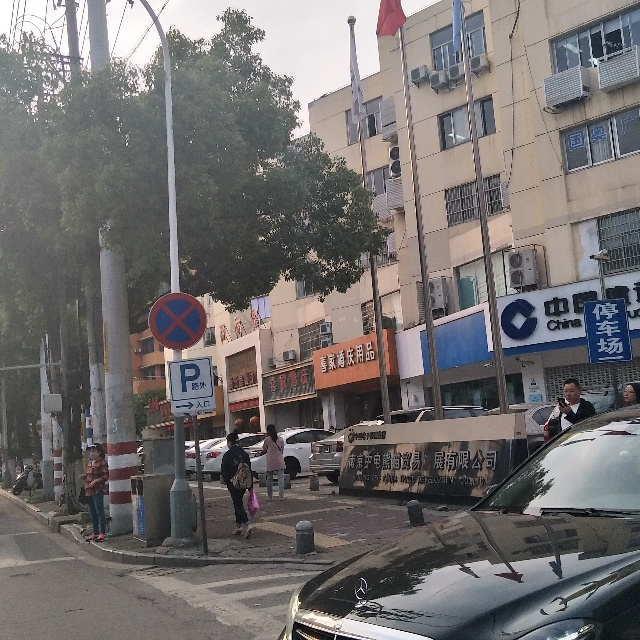stop: (156, 302, 201, 346)
